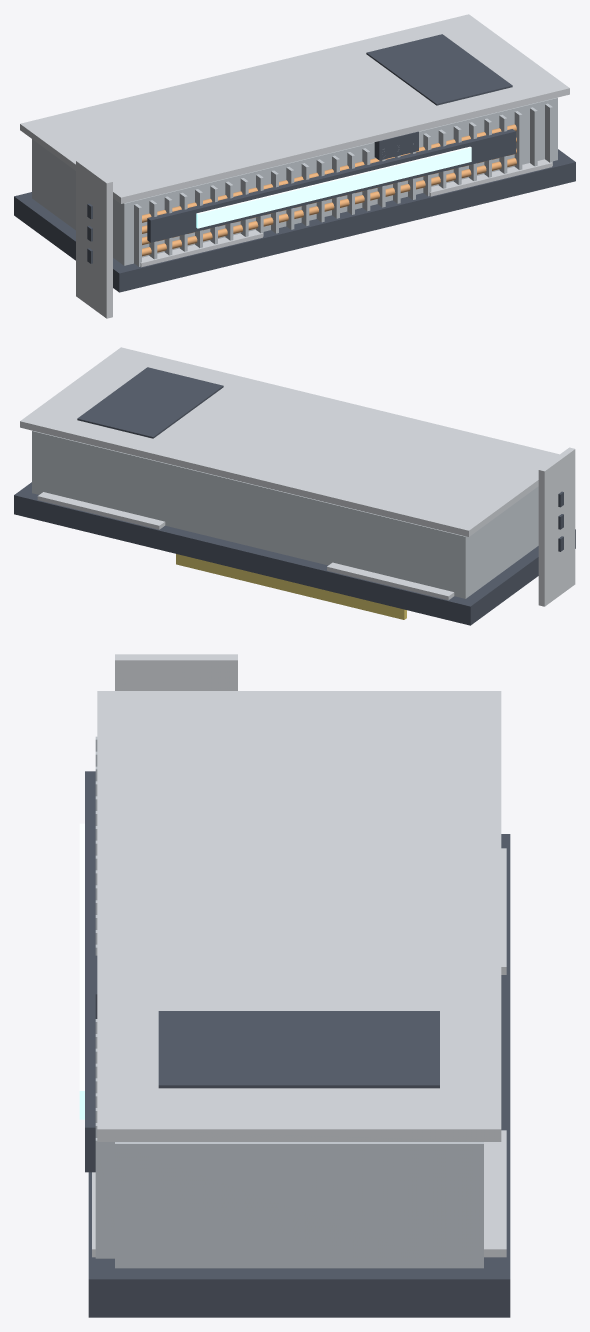
File: gpu.glb
The picture shows the model from 3 angles, top to bottom: view 1: azimuth 30°, elevation 25°; view 2: azimuth 150°, elevation 25°; view 3: azimuth 270°, elevation 25°; orthographic projection. The views are drawn at different scales.
Visible parts, largest first — view 1: Backplate, Front_Shroud, Heatsink_FinBlock, Side_Shroud_Frame, FlowThrough_Cutout, PCIe_Bracket, RGB_Side_Strip, Side_Heatpipe_0, Silver_Facet_R, Silver_Facet_L, Side_Heatpipe_3, 12VHPWR_Socket (+4 smaller); view 2: Backplate, Heatsink_FinBlock, Front_Shroud, FlowThrough_Cutout, PCIe_Bracket, PCIe_Gold_Fingers, Silver_Facet_R, Silver_Facet_L; view 3: Backplate, Heatsink_FinBlock, Front_Shroud, FlowThrough_Cutout, PCIe_Bracket, Side_Shroud_Frame, Silver_Facet_R, Heatsink_Fin_27, RGB_Side_Strip.
Boxes of the visible parts, x1,y1,x2,y2 form: Backplate: [20, 14, 569, 203]; Front_Shroud: [14, 149, 575, 292]; Heatsink_FinBlock: [32, 97, 557, 265]; Side_Shroud_Frame: [147, 129, 515, 242]; FlowThrough_Cutout: [366, 34, 512, 105]; PCIe_Bracket: [76, 159, 112, 318]; RGB_Side_Strip: [196, 146, 471, 228]; Side_Heatpipe_0: [142, 158, 516, 256]; Silver_Facet_R: [429, 159, 552, 196]; Silver_Facet_L: [140, 230, 262, 267]; Side_Heatpipe_3: [142, 124, 516, 222]; 12VHPWR_Socket: [374, 131, 418, 160]; Backplate: [20, 347, 559, 536]; Heatsink_FinBlock: [32, 430, 538, 598]; Front_Shroud: [14, 482, 575, 625]; FlowThrough_Cutout: [77, 367, 223, 438]; PCIe_Bracket: [538, 447, 575, 606]; PCIe_Gold_Fingers: [176, 554, 406, 619]; Silver_Facet_R: [37, 492, 165, 529]; Silver_Facet_L: [327, 562, 454, 600]; Backplate: [97, 691, 501, 1141]; Heatsink_FinBlock: [115, 1142, 483, 1268]; Front_Shroud: [88, 834, 510, 1317]; FlowThrough_Cutout: [158, 1011, 439, 1088]; PCIe_Bracket: [115, 654, 237, 690]; Side_Shroud_Frame: [85, 771, 95, 1172]; Silver_Facet_R: [92, 1130, 506, 1257]; Heatsink_Fin_27: [95, 1138, 114, 1258]; RGB_Side_Strip: [79, 823, 84, 1119].
Size of the model in its own units: 3.06 by 0.85 by 1.23.
